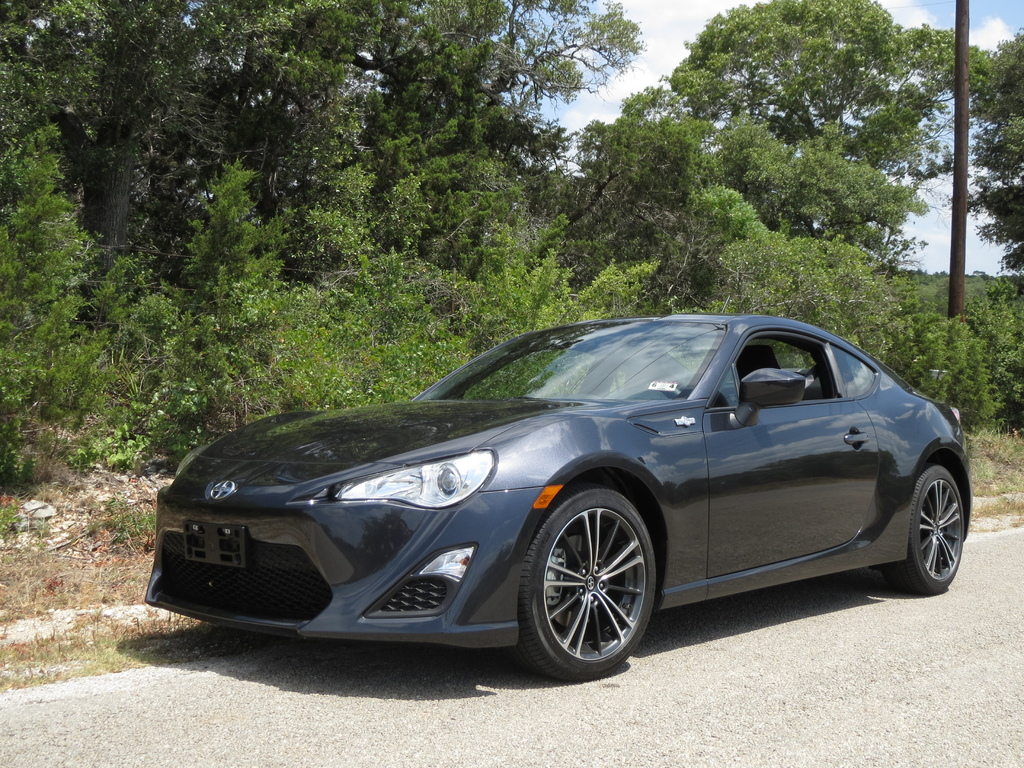Car: (147, 303, 966, 668)
